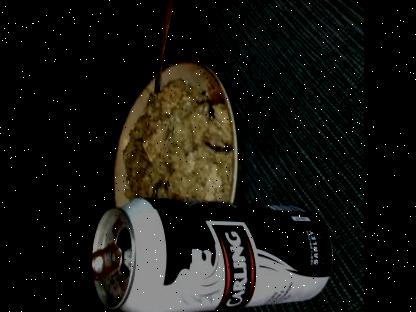Can: (88, 195, 334, 312)
